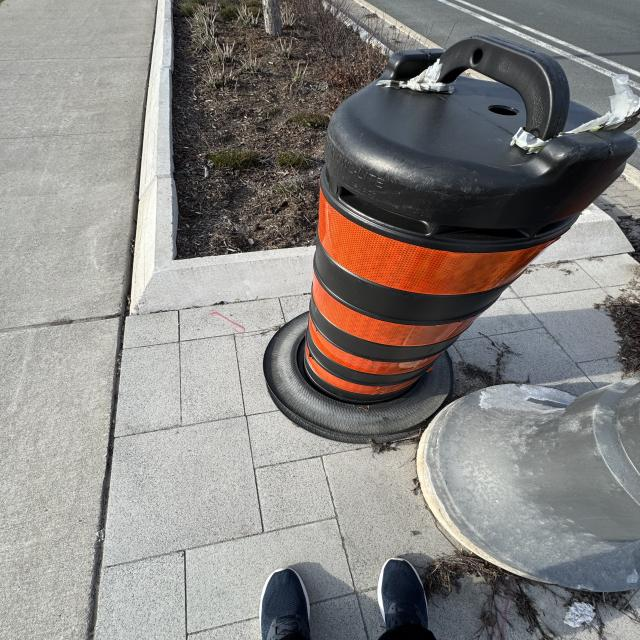Teraffic Barrel: (264, 36, 635, 442), (416, 378, 640, 591)
